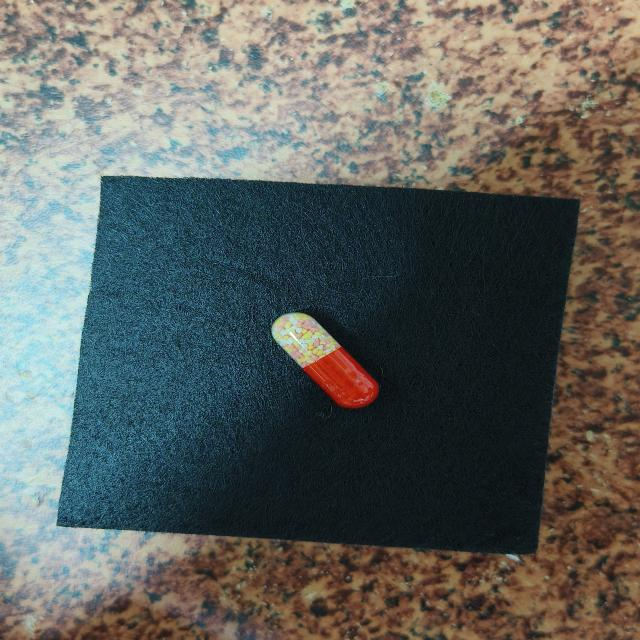Intact Capsule: (271, 312, 379, 408)
